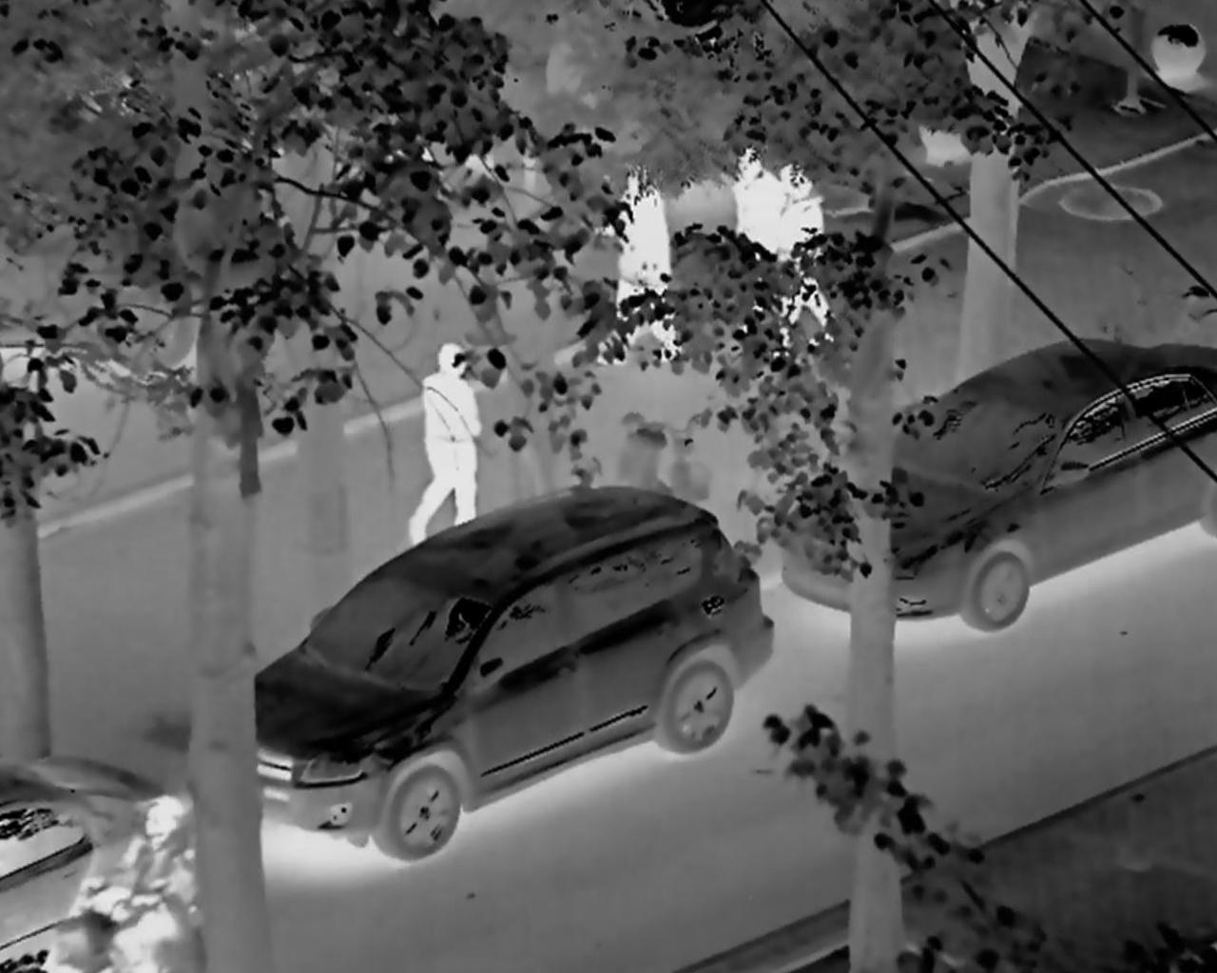person: (38, 796, 226, 973), (389, 338, 492, 543), (604, 164, 680, 381), (768, 166, 849, 353), (724, 135, 780, 326)
